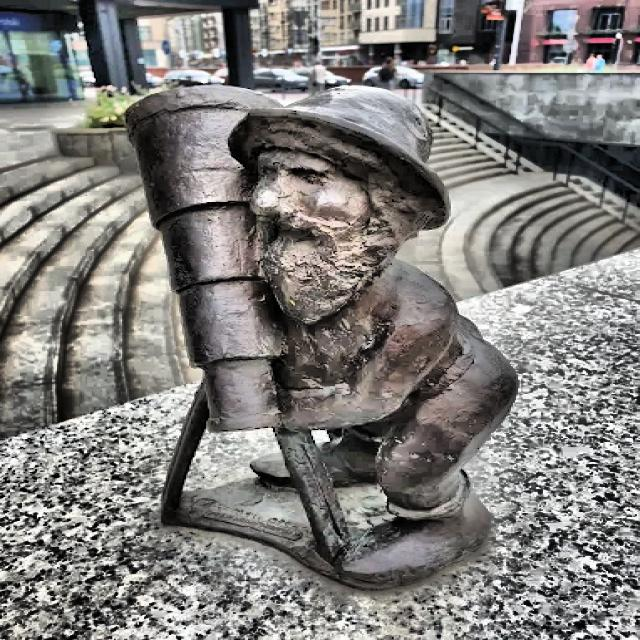Lunetyk: (121, 84, 519, 594)
